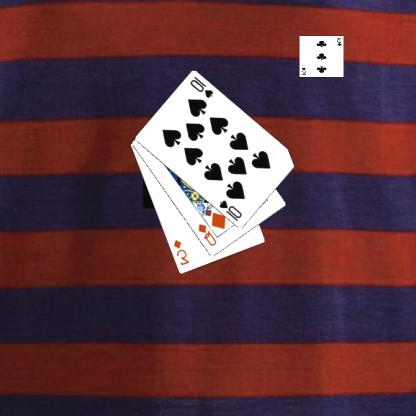10S: (218, 197, 245, 223), (189, 74, 216, 99)
3D: (172, 237, 192, 267)
QD: (197, 221, 220, 248)
